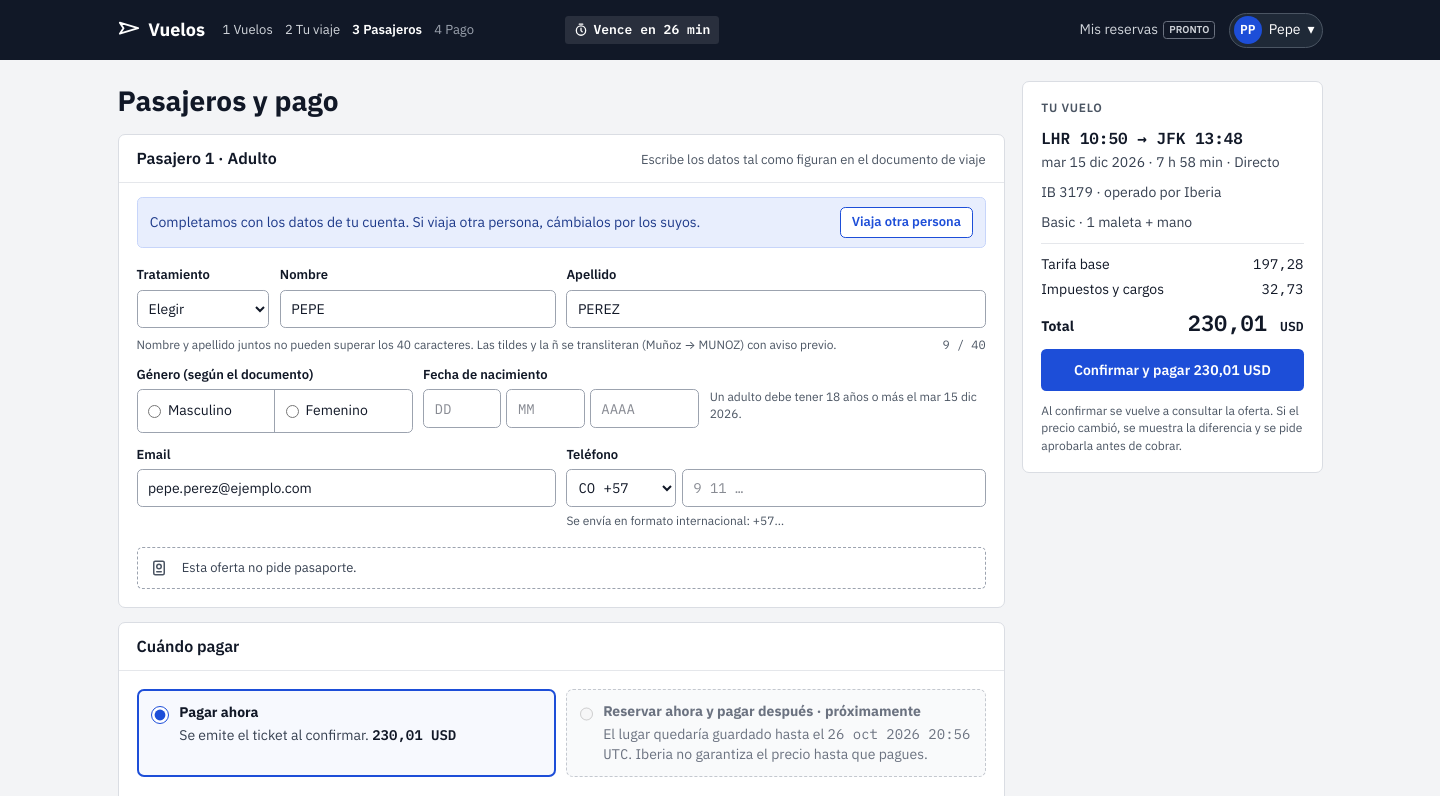
Scenario: passengers and payment › warns how the airline gets accented names and counts the 40 characters
Click the button "Viaja otra persona" at (906,223), box [840,207,972,238]
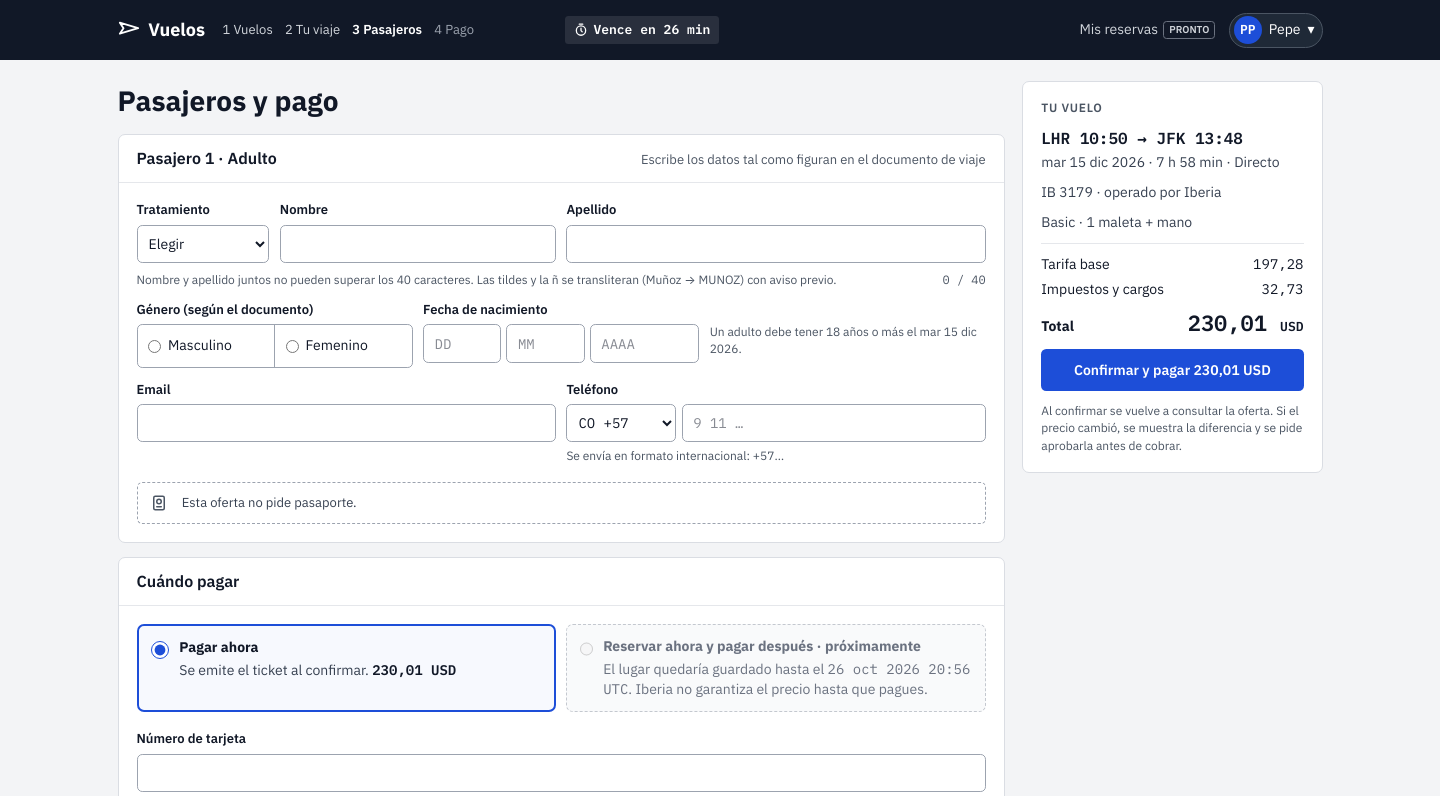
Type "José" into the field labelled "Nombre" at (418,244), box [280,224,556,263]
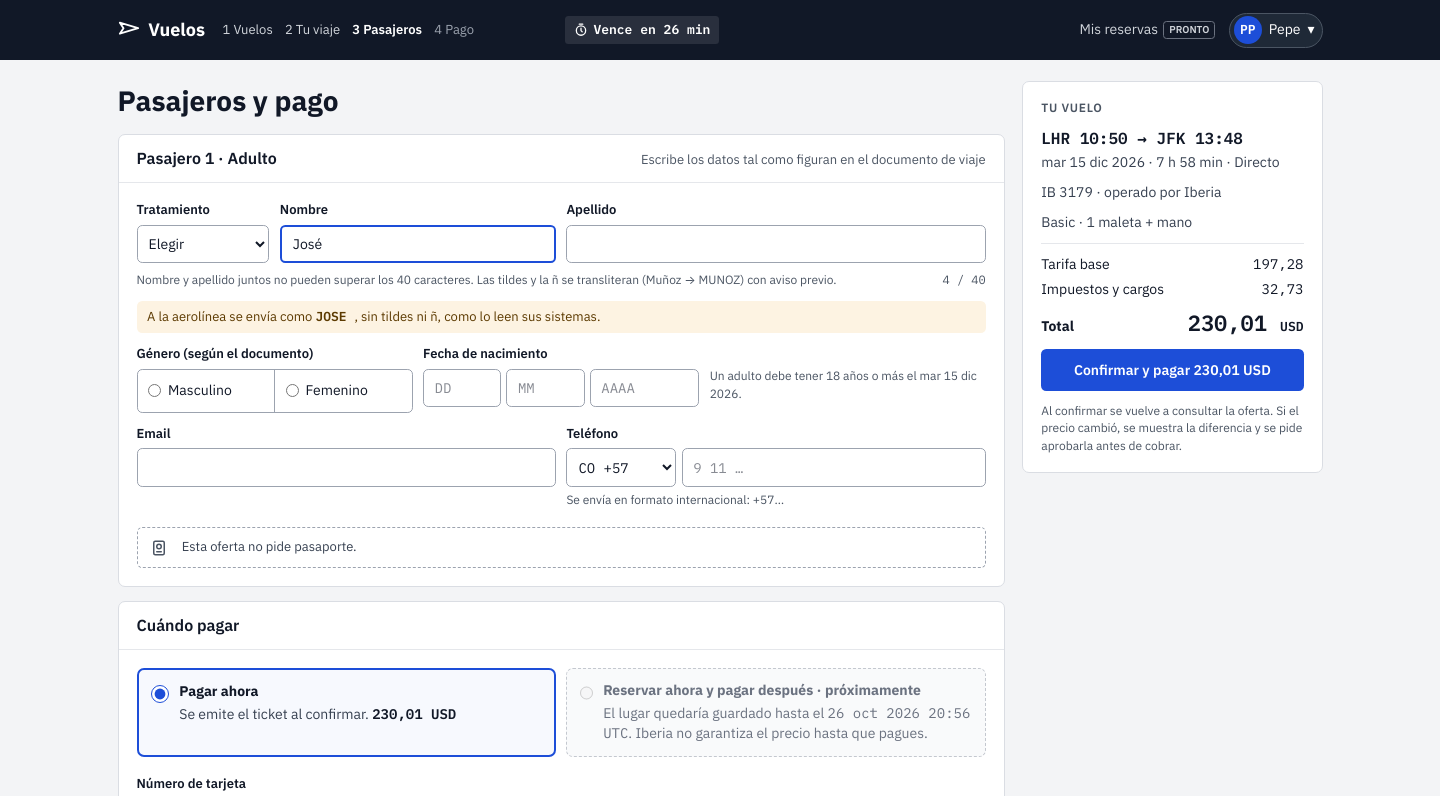
Type "Muñoz" into the field labelled "Apellido" at (776,244), box [566,224,986,263]
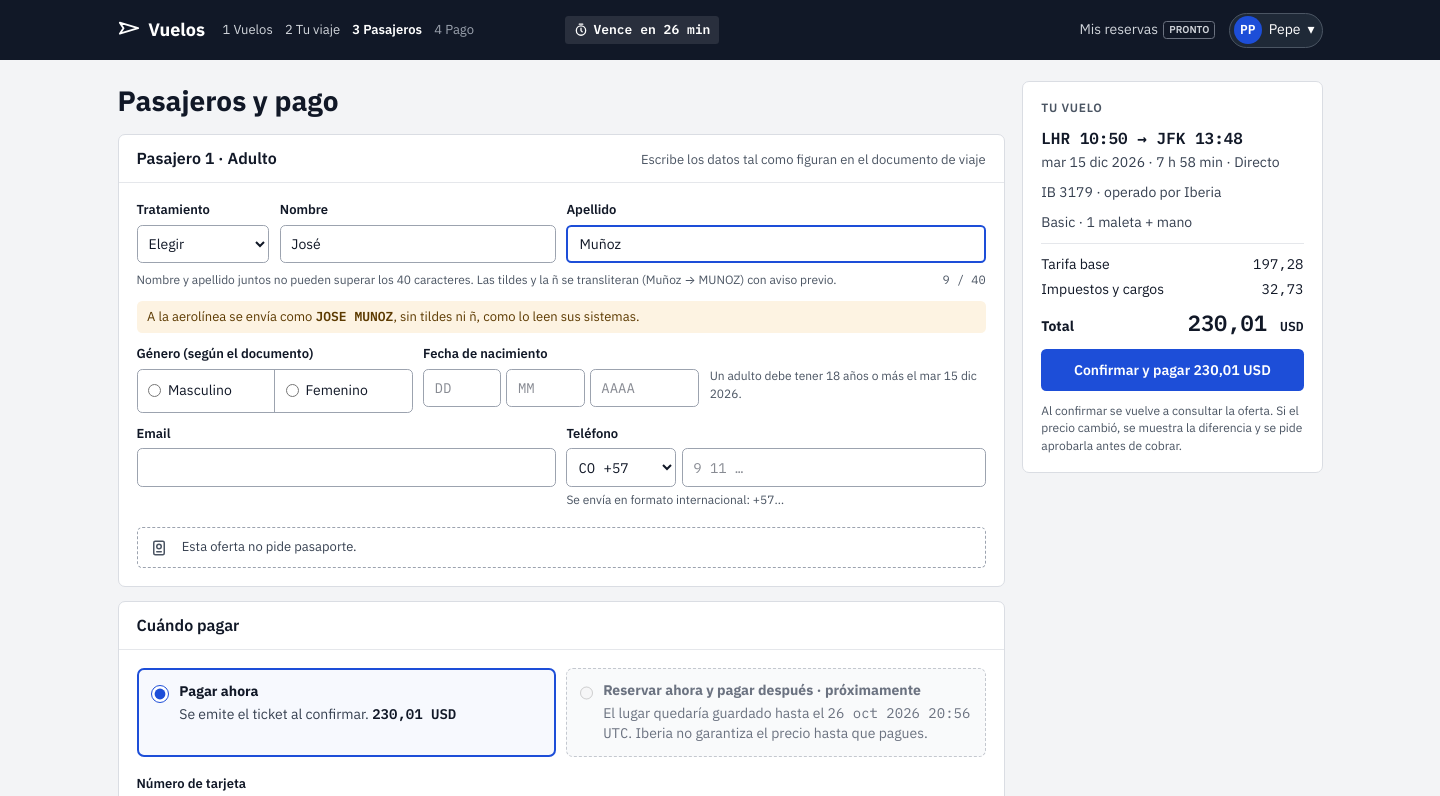
Now the message shows "A la aerolínea se envía como JOSE MUNOZ", box [136,301,986,333]
Now the text "9 / 40" is shown, box [942,272,986,289]
